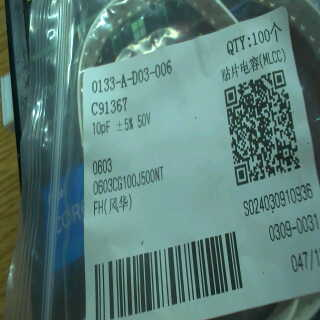10pF: (86, 119, 116, 141)
